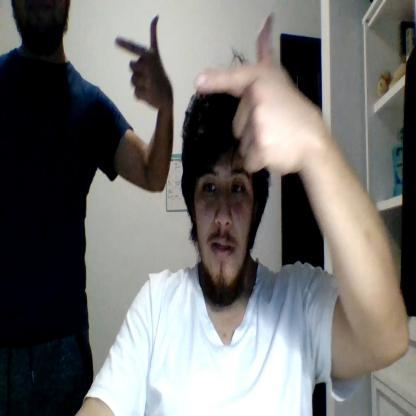G: (194, 11, 298, 174), (115, 15, 166, 108)
